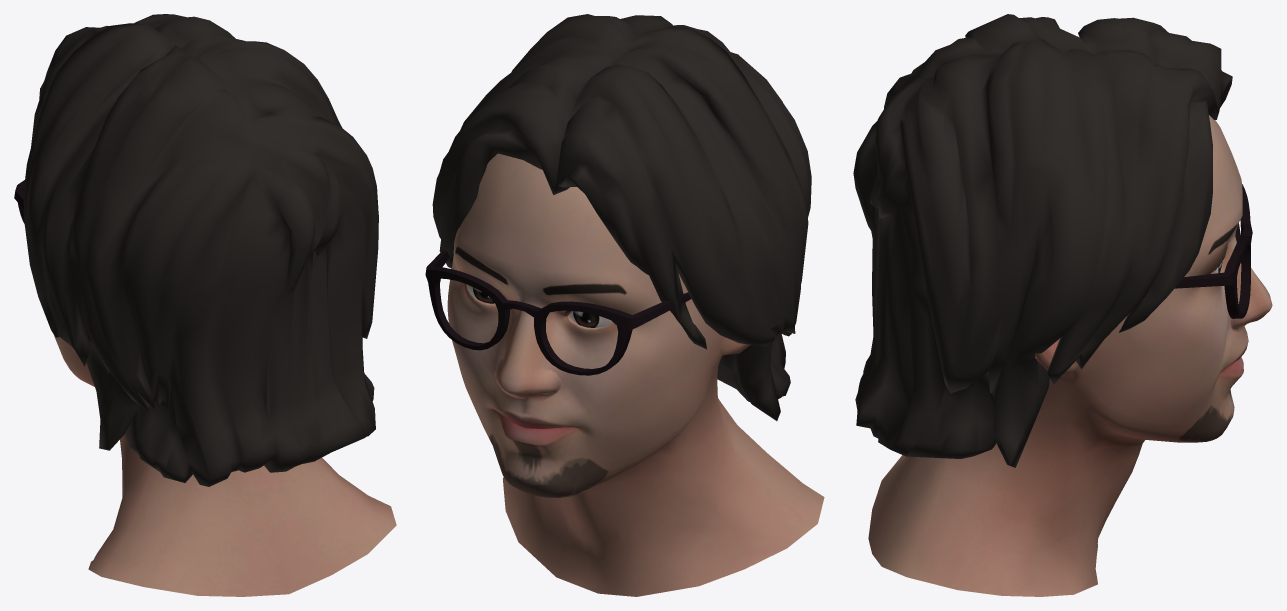
Rendered from head.glb.
3 renders of one model, left to right at view 1: azimuth 30°, elevation 25°; view 2: azimuth 150°, elevation 25°; view 3: azimuth 270°, elevation 25°, orthographic. The views are drawn at different scales.
Visible parts, largest first — view 1: EyeLeft; view 2: EyeLeft; view 3: EyeLeft.
Boxes of the visible parts, x1,y1,x2,y2 form: EyeLeft: [14, 14, 396, 596]; EyeLeft: [425, 14, 824, 596]; EyeLeft: [853, 14, 1272, 596].
Bounding box in the file's own units: 0.4077 × 0.6612 × 0.4639.
4 materials, 4 textured.
